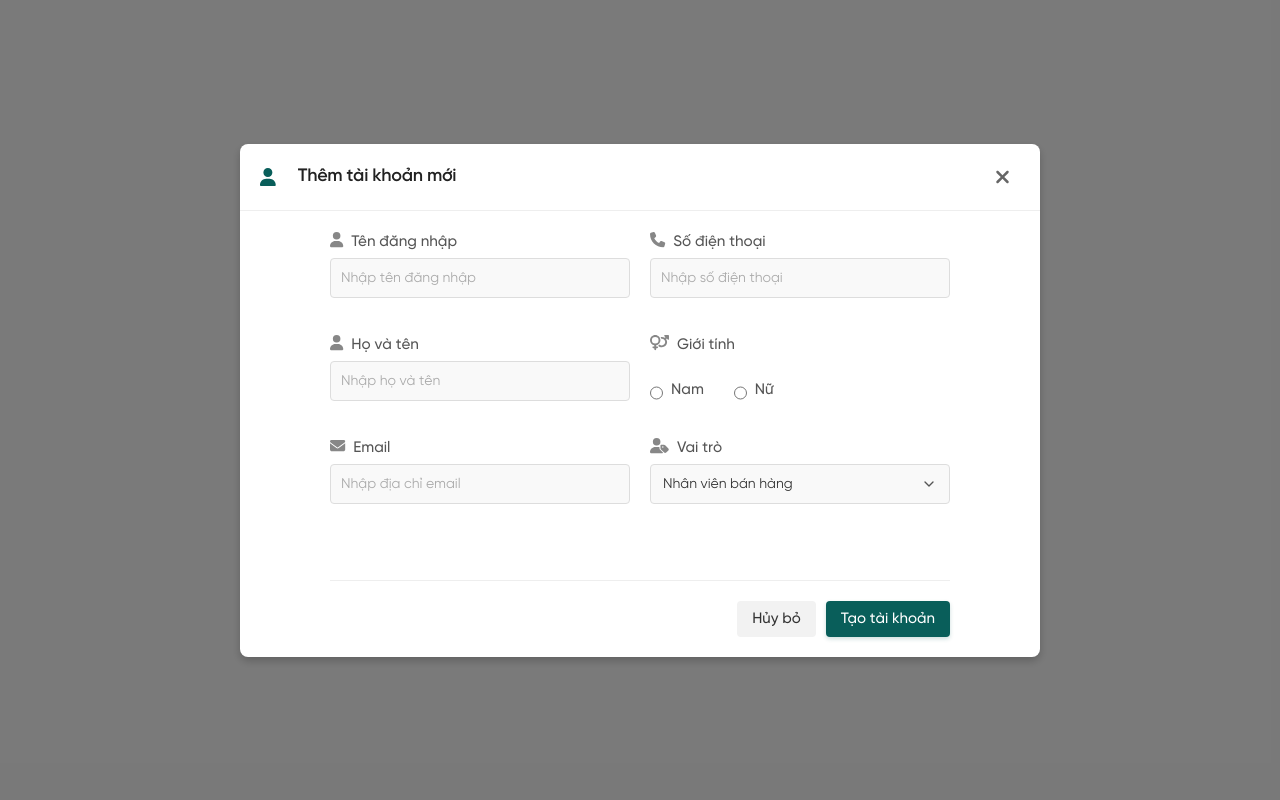
AccountForm › validates email and phone format
Expected: the heading "Thêm tài khoản mới" is shown, [260,163,456,190]
In the field labelled "Email": [480, 484] box [330,464,630,504], type "invalid-email"
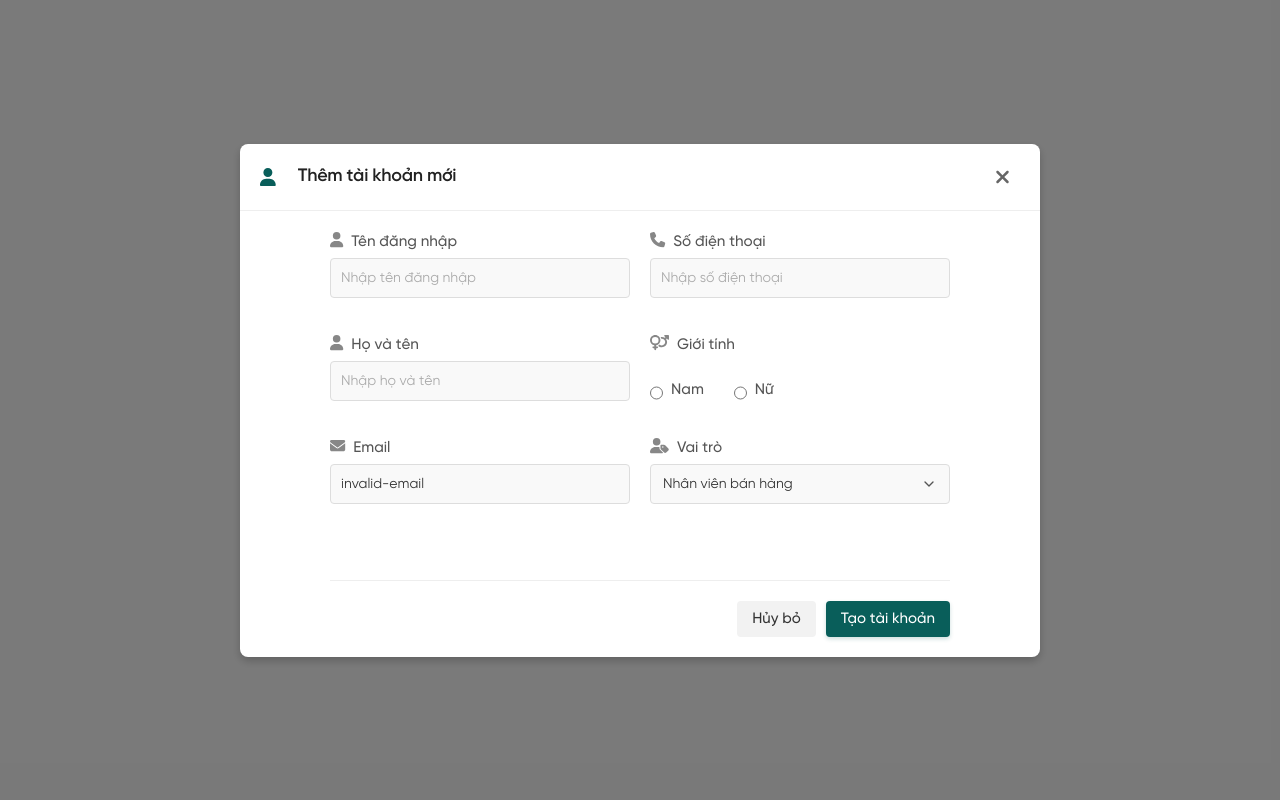
In the field labelled "Số điện thoại": [800, 278] box [650,258,950,298], type "abc"
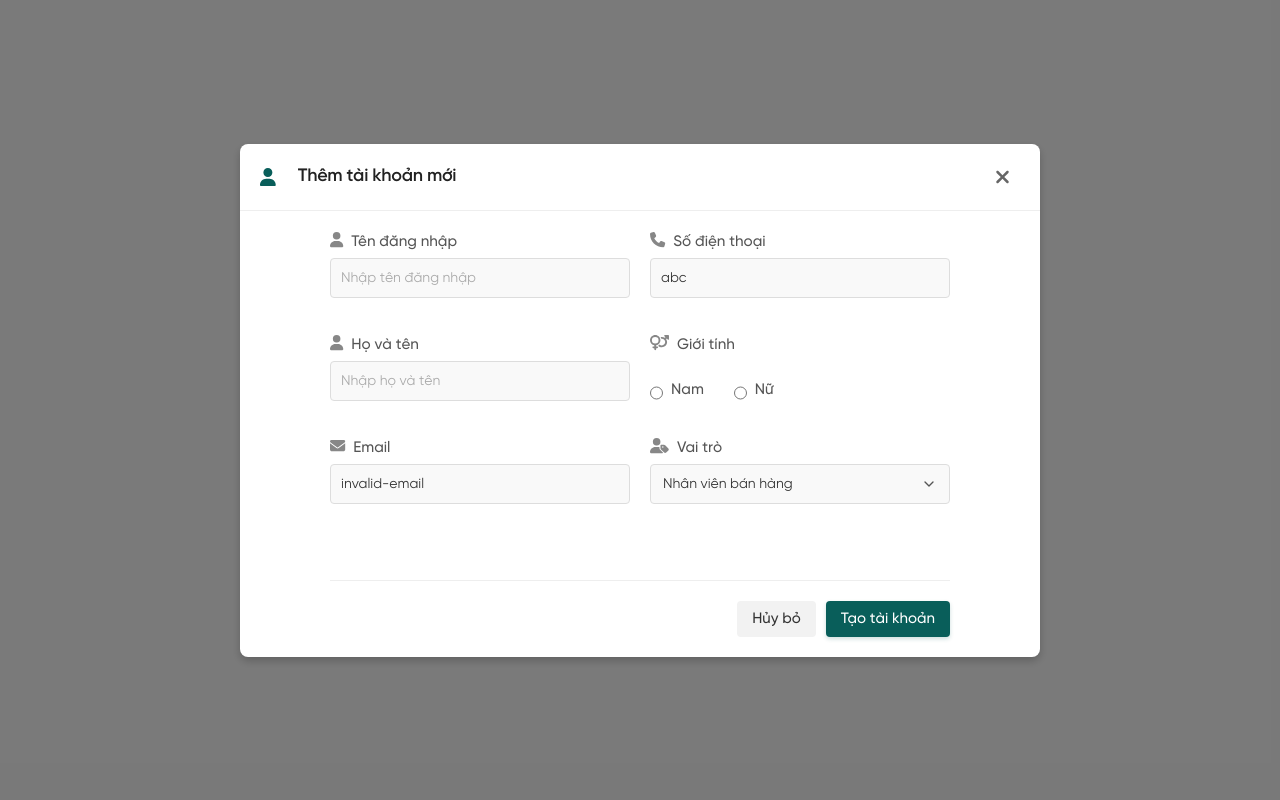
Click the button "Tạo tài khoản": [888, 618] box [826,600,950,636]
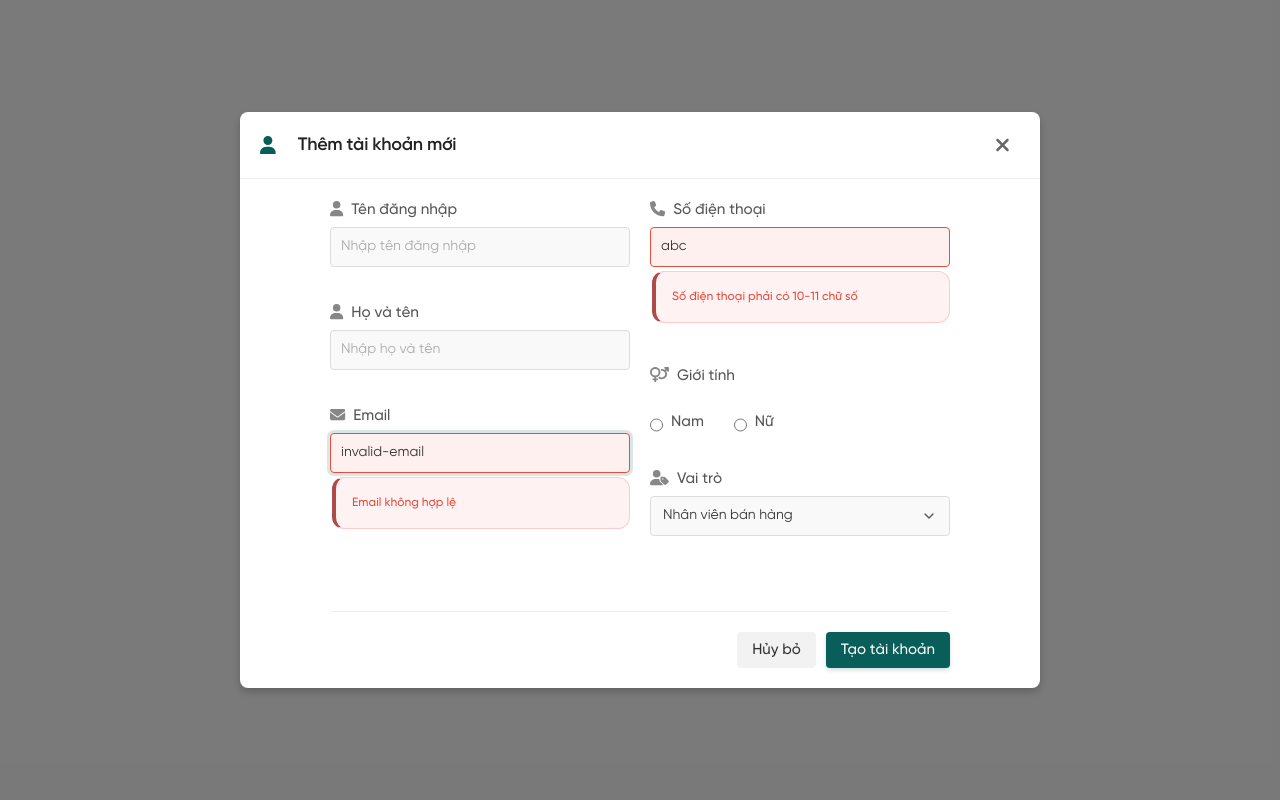
Result: the text "Email không hợp lệ" is shown at [332,477,630,529]
Result: the text "Số điện thoại phải có 10-11 chữ số" is shown at [652,271,950,323]
